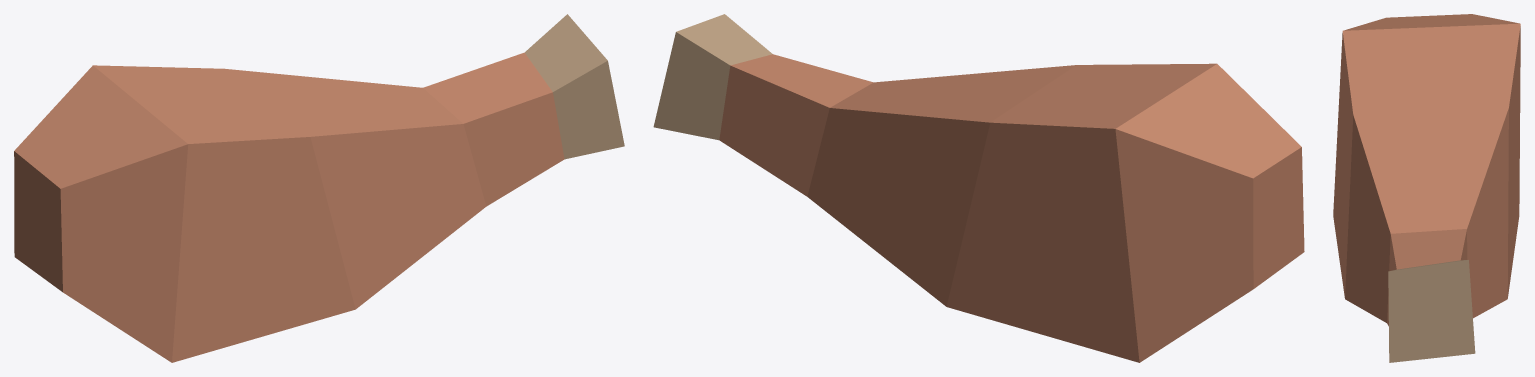
File: chickenDrum01.fbx
The picture shows the model from 3 angles, left to right: view 1: azimuth 30°, elevation 25°; view 2: azimuth 150°, elevation 25°; view 3: azimuth 270°, elevation 25°; orthographic projection. The views are drawn at different scales.
Visible parts, largest first — view 1: chickenDrum01; view 2: chickenDrum01; view 3: chickenDrum01.
Part boxes in pixels (x1,y1,x2,y2): chickenDrum01: [14, 14, 624, 362]; chickenDrum01: [653, 14, 1304, 362]; chickenDrum01: [1333, 14, 1520, 362].
Bounding box in the file's own units: 22.21 × 8.13 × 6.85.
Materials: 1 (1 with a texture image).
